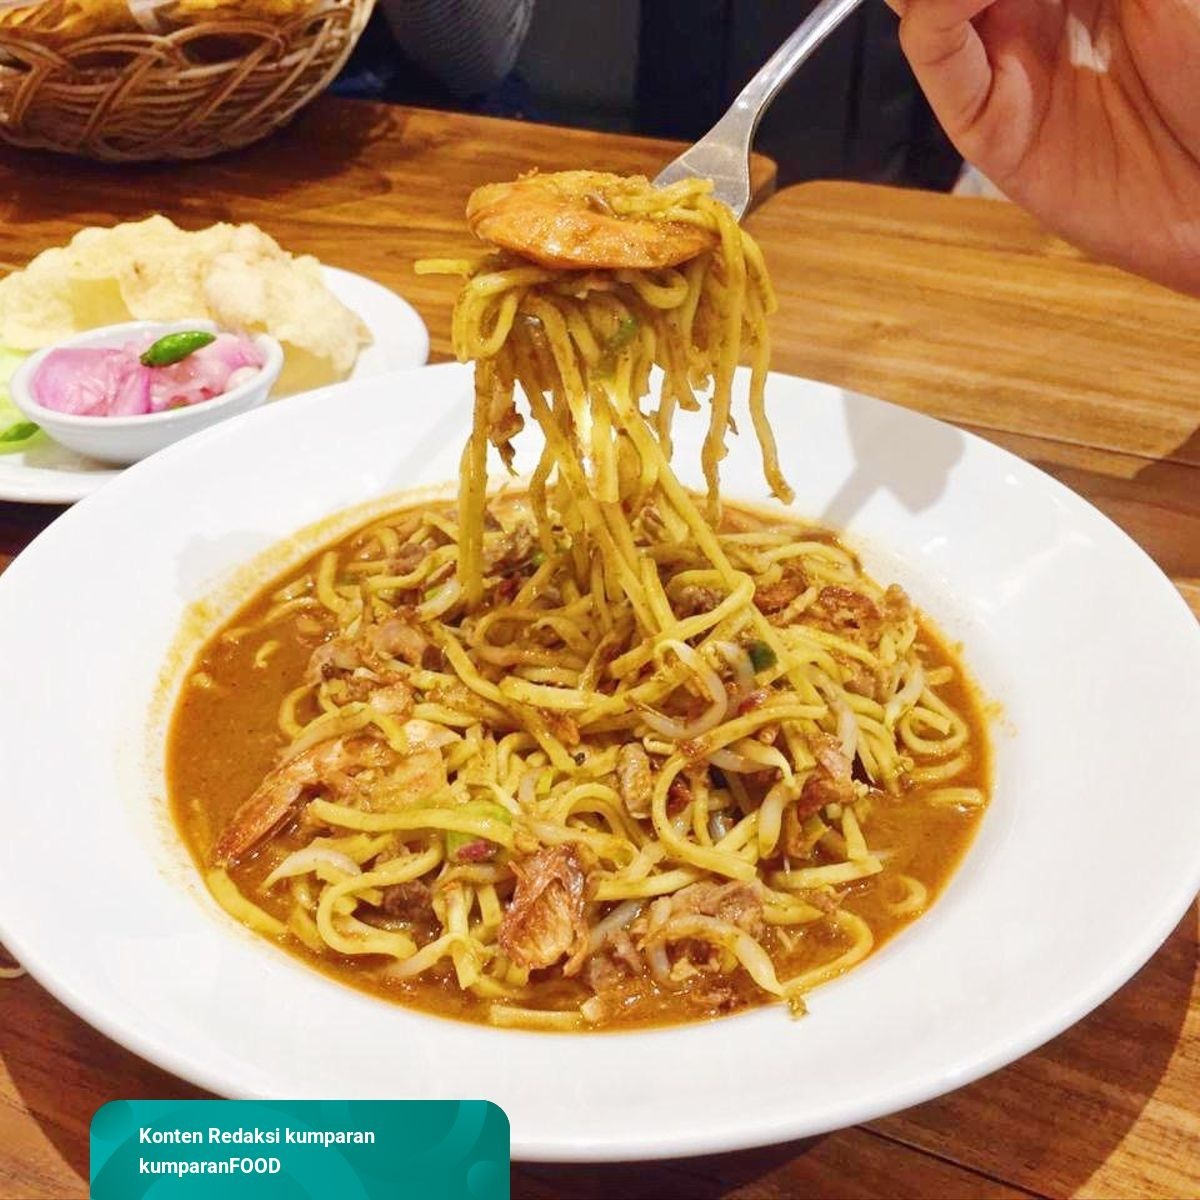mie_aceh: (176, 463, 1002, 1027)
